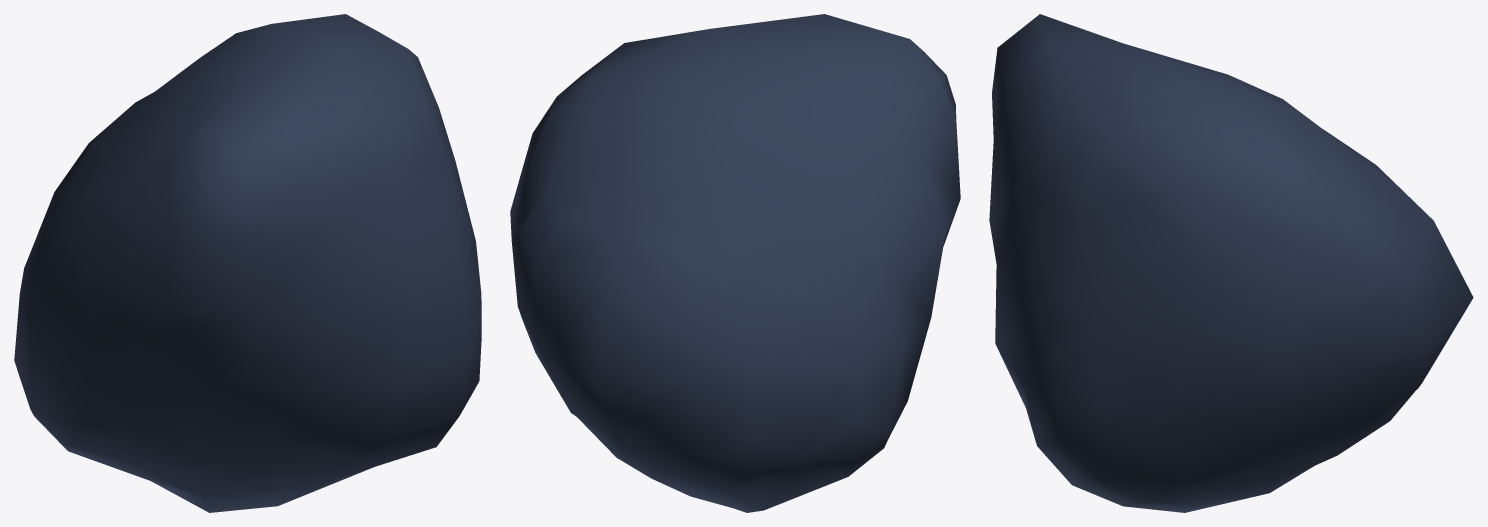
Rendered from Rock_5.fbx.
3 renders of one model, left to right at view 1: azimuth 30°, elevation 25°; view 2: azimuth 150°, elevation 25°; view 3: azimuth 270°, elevation 25°, orthographic. The views are drawn at different scales.
Parts seen in each view (by area): view 1: Rock 5; view 2: Rock 5; view 3: Rock 5.
Part boxes in pixels (left/top/right/bottom): Rock 5: left=14, top=14, right=481, bottom=512; Rock 5: left=510, top=14, right=960, bottom=512; Rock 5: left=989, top=14, right=1473, bottom=512.
Bounding box in the file's own units: 52.05 × 58.51 × 55.93.
